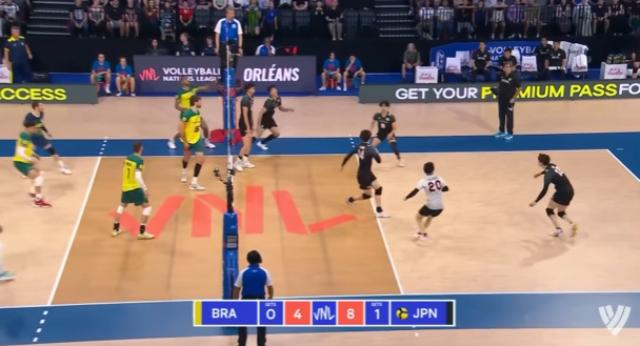Levantador: (95, 128, 178, 247), (358, 86, 417, 162)
Libero: (393, 148, 471, 256), (20, 88, 70, 184)
